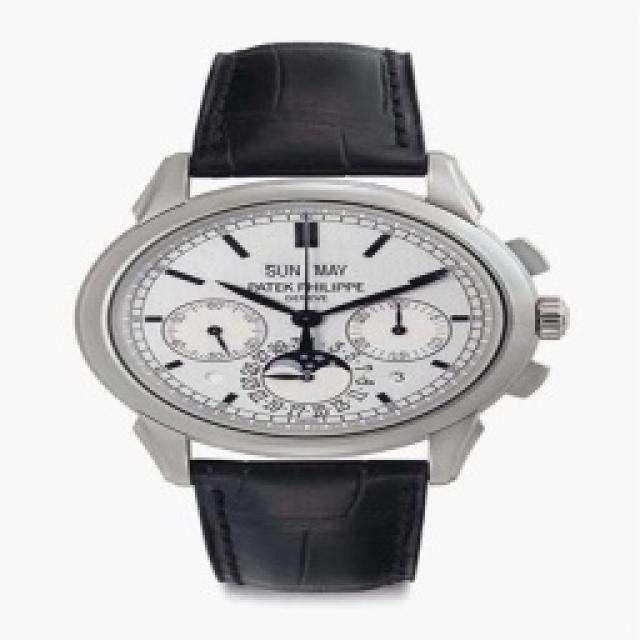saat: (66, 32, 576, 598)
